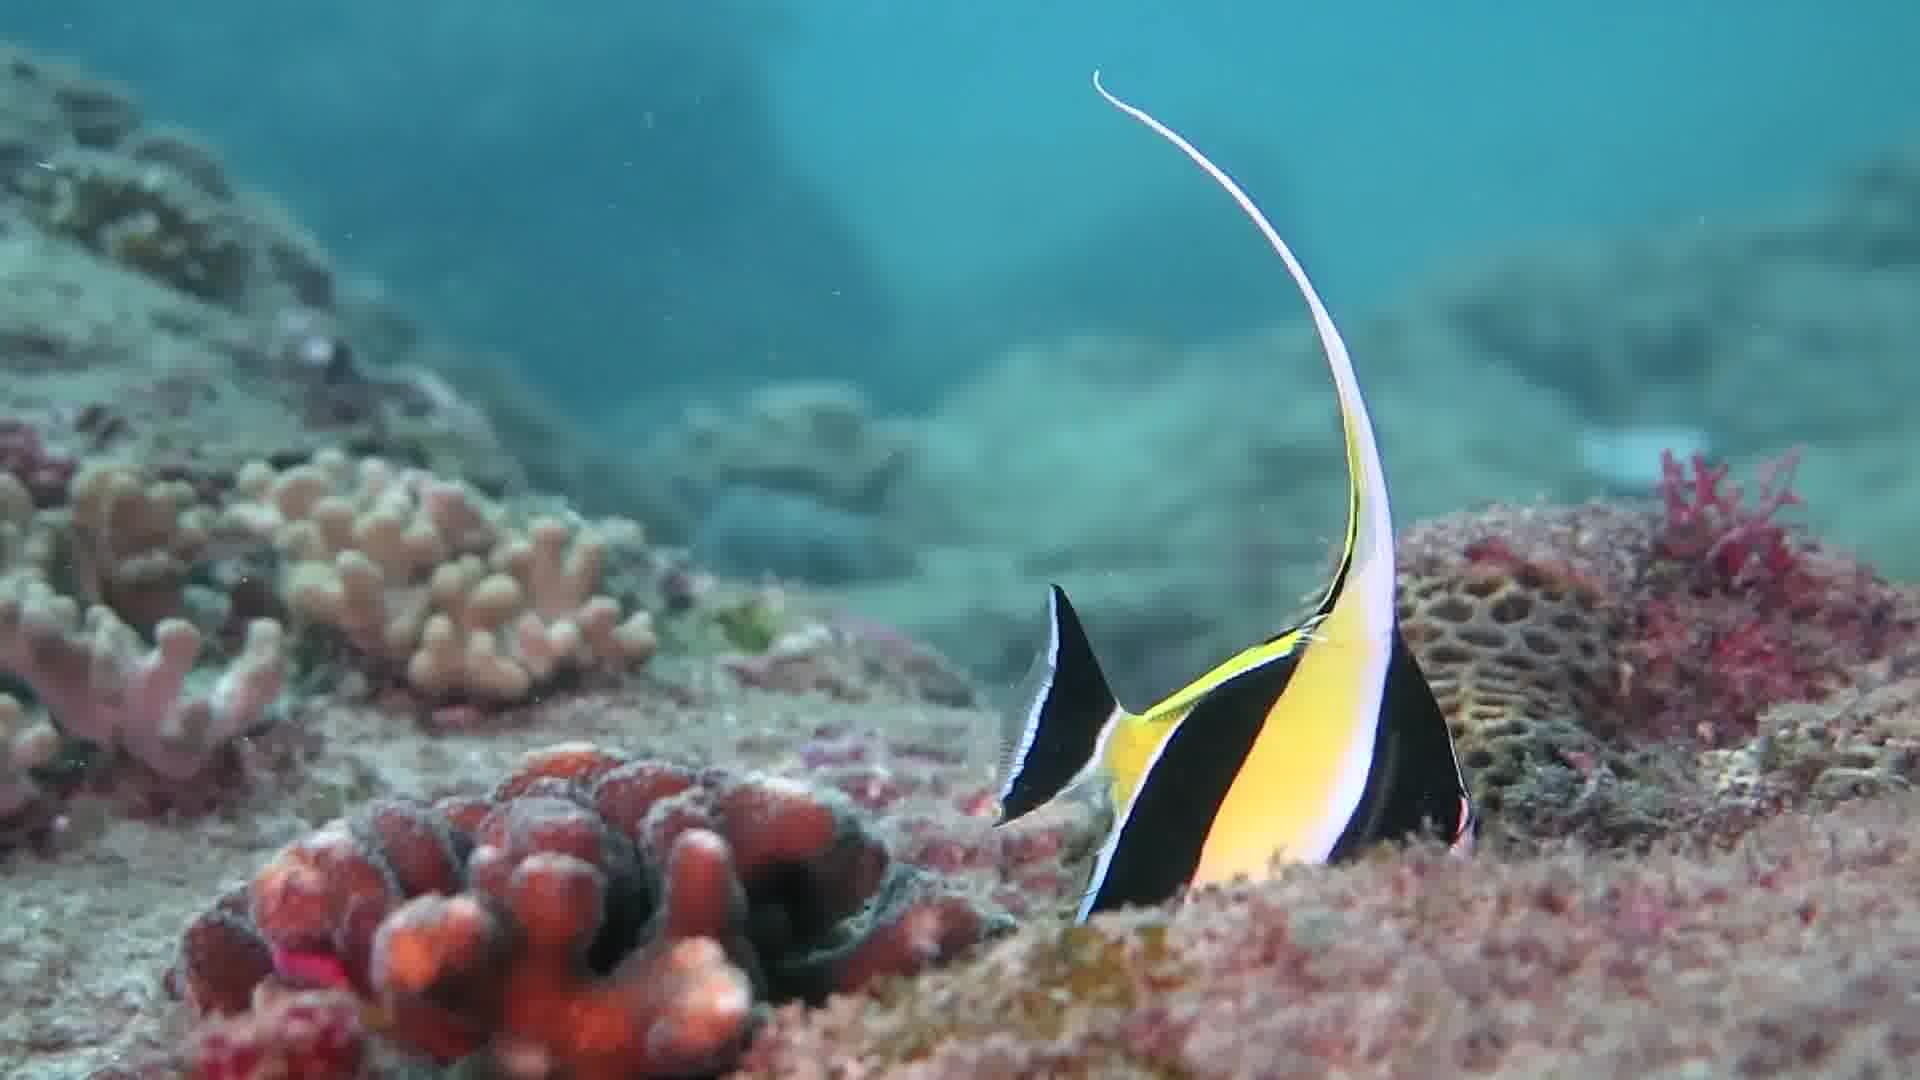Zanclus cornutus: (996, 448, 1513, 953)
